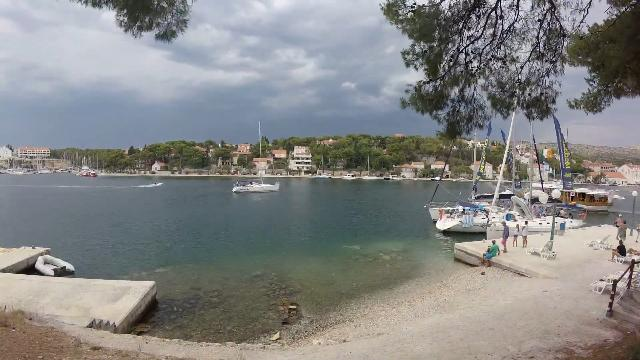Sailboat: (226, 175, 288, 200)
speedboat: (139, 178, 169, 192)
